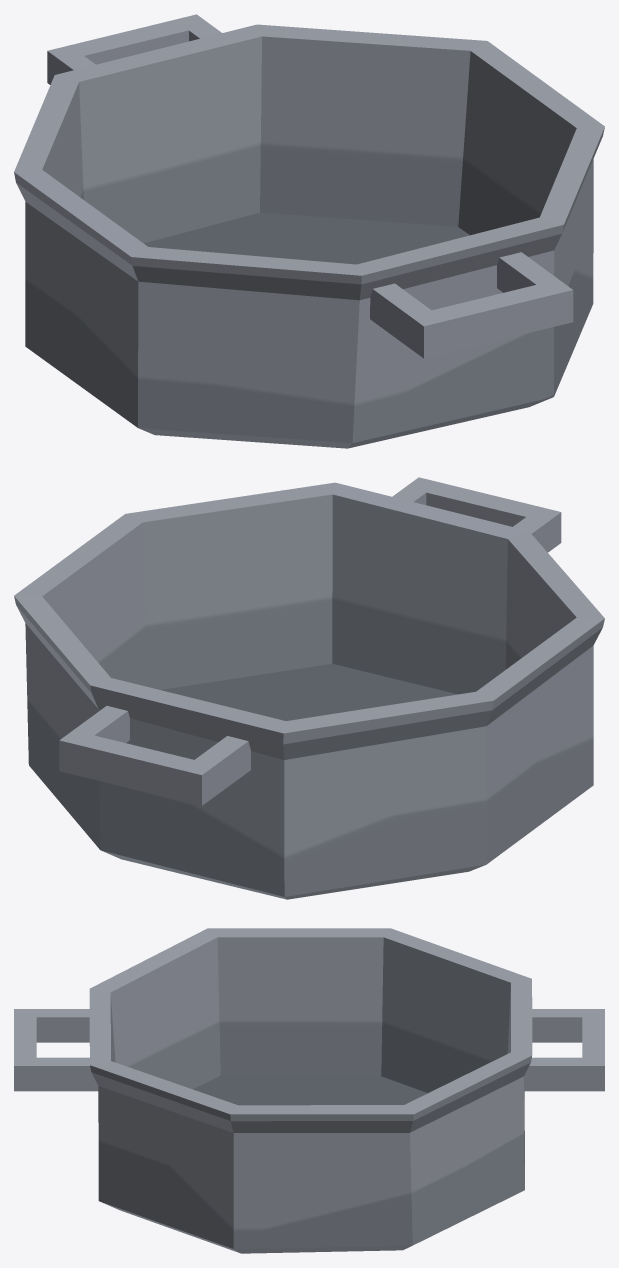
The model's file is SM_Prop_Pot_02.fbx.
The picture shows the model from 3 angles, top to bottom: view 1: azimuth 30°, elevation 25°; view 2: azimuth 150°, elevation 25°; view 3: azimuth 270°, elevation 25°; orthographic projection. The views are drawn at different scales.
Visible parts, largest first — view 1: SM_Prop_Pot_02; view 2: SM_Prop_Pot_02; view 3: SM_Prop_Pot_02.
Boxes of the visible parts, x1,y1,x2,y2 form: SM_Prop_Pot_02: [14, 14, 604, 448]; SM_Prop_Pot_02: [14, 477, 604, 899]; SM_Prop_Pot_02: [14, 928, 604, 1253].
Size of the model in its own units: 52.39 by 19.88 by 69.94.
